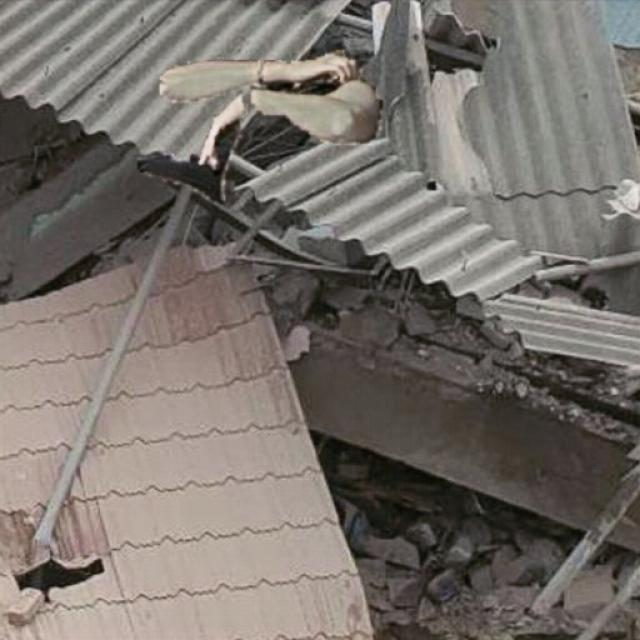Person in Rubble: (138, 50, 382, 200)
